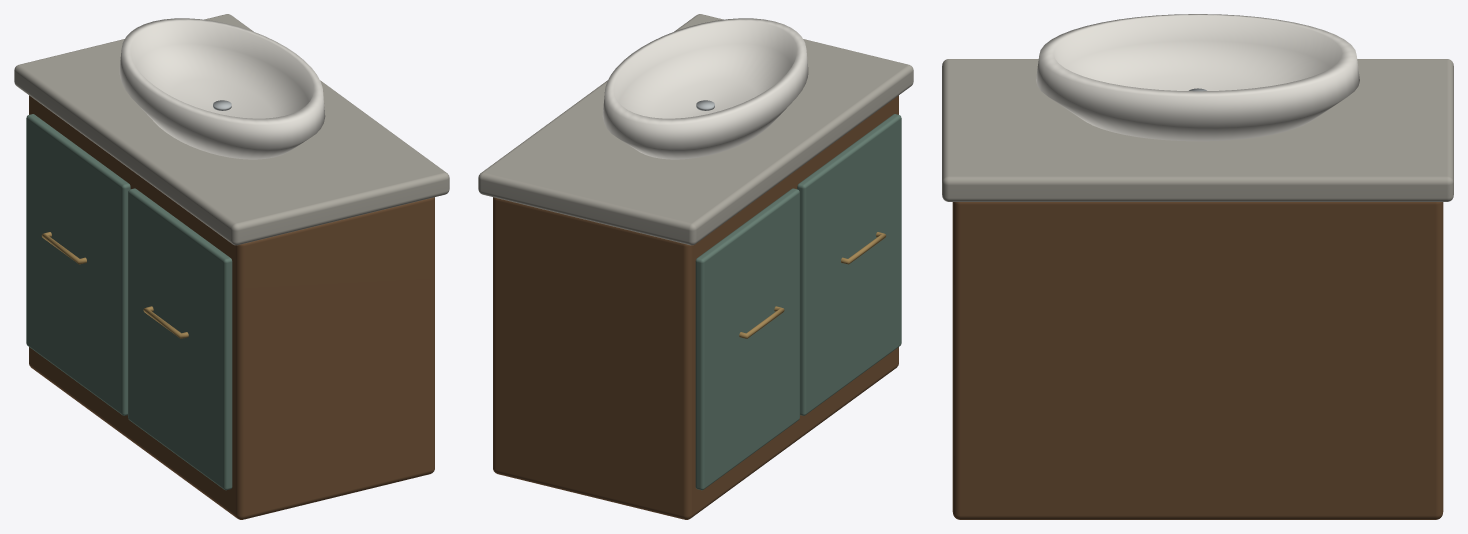
File: vanity.glb
3 renders of one model, left to right at view 1: azimuth 30°, elevation 25°; view 2: azimuth 150°, elevation 25°; view 3: azimuth 270°, elevation 25°, orthographic. The views are drawn at different scales.
Visible parts, largest first — view 1: Vanity cabinet, Stone counter, Inset front.001, Inset front, Wash basin; view 2: Vanity cabinet, Stone counter, Inset front, Inset front.001, Wash basin; view 3: Vanity cabinet, Stone counter, Wash basin.
Part boxes in pixels (x1,y1,x2,y2): Vanity cabinet: [29, 95, 434, 519]; Stone counter: [14, 14, 449, 245]; Inset front.001: [128, 188, 232, 490]; Inset front: [26, 114, 130, 415]; Wash basin: [119, 18, 325, 159]; Vanity cabinet: [493, 95, 898, 519]; Stone counter: [478, 14, 913, 245]; Inset front: [695, 188, 799, 490]; Inset front.001: [797, 114, 901, 415]; Wash basin: [602, 18, 808, 159]; Vanity cabinet: [952, 202, 1443, 519]; Stone counter: [942, 59, 1453, 201]; Wash basin: [1036, 14, 1359, 141].
Bounding box in the file's own units: 0.7177 × 1.06 × 1.2.
